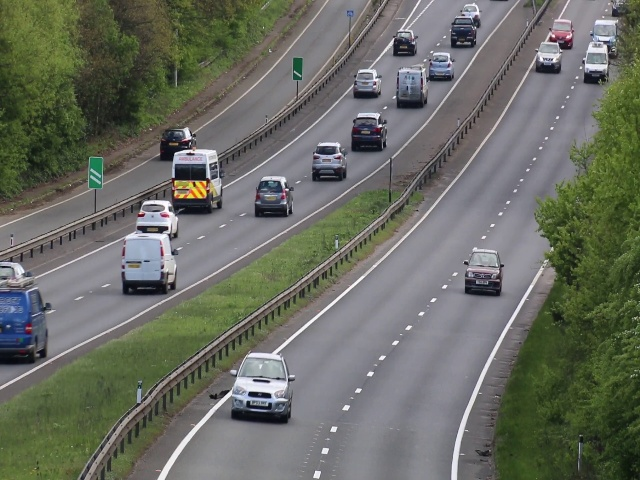car: (232, 350, 295, 423), (118, 232, 179, 293), (1, 283, 51, 357), (172, 148, 223, 211), (464, 247, 504, 298), (255, 172, 295, 215), (134, 201, 180, 238), (395, 64, 429, 107), (349, 112, 386, 151), (312, 139, 347, 180), (158, 126, 194, 158), (581, 44, 609, 84), (534, 39, 563, 73), (449, 16, 478, 48), (427, 48, 456, 80), (353, 66, 382, 97), (391, 26, 420, 55), (550, 20, 574, 48)
